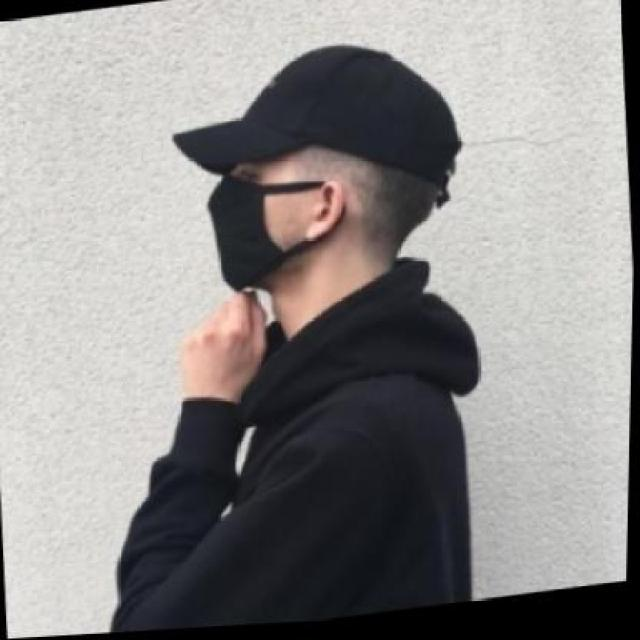hat: (165, 32, 473, 228)
